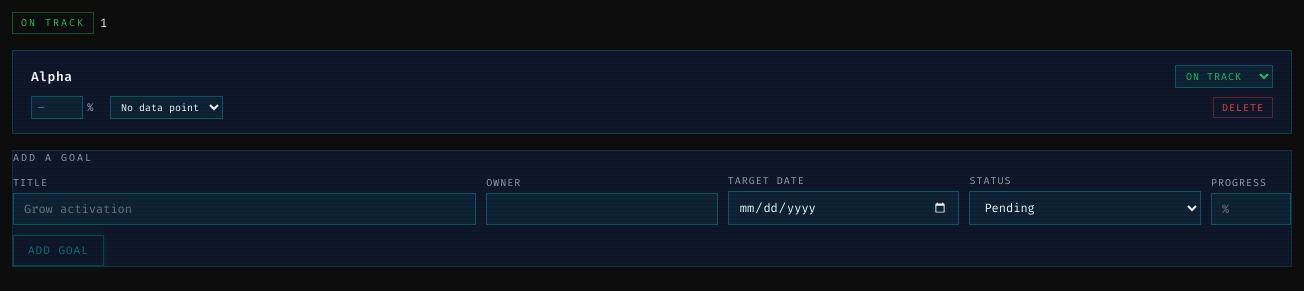
Test: deleting a goal removes it from the list
Click the button with aria-label "Delete Alpha". click: (1243, 108)
box: [1213,97,1273,118]
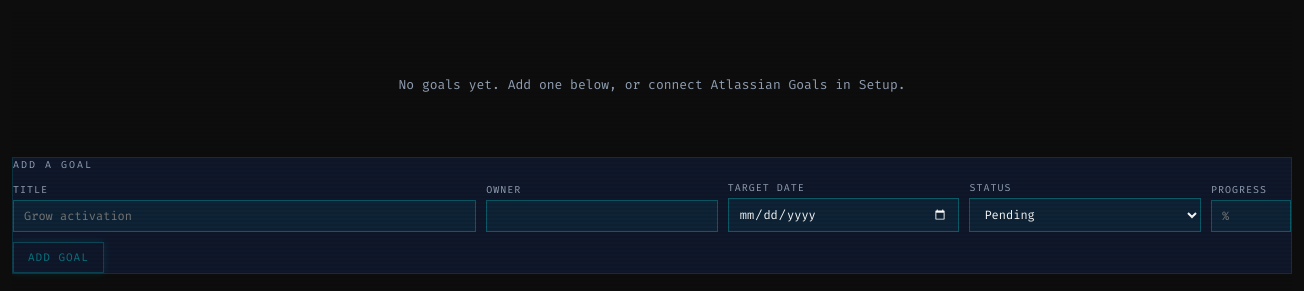
Expected: the text "Alpha" is gone
